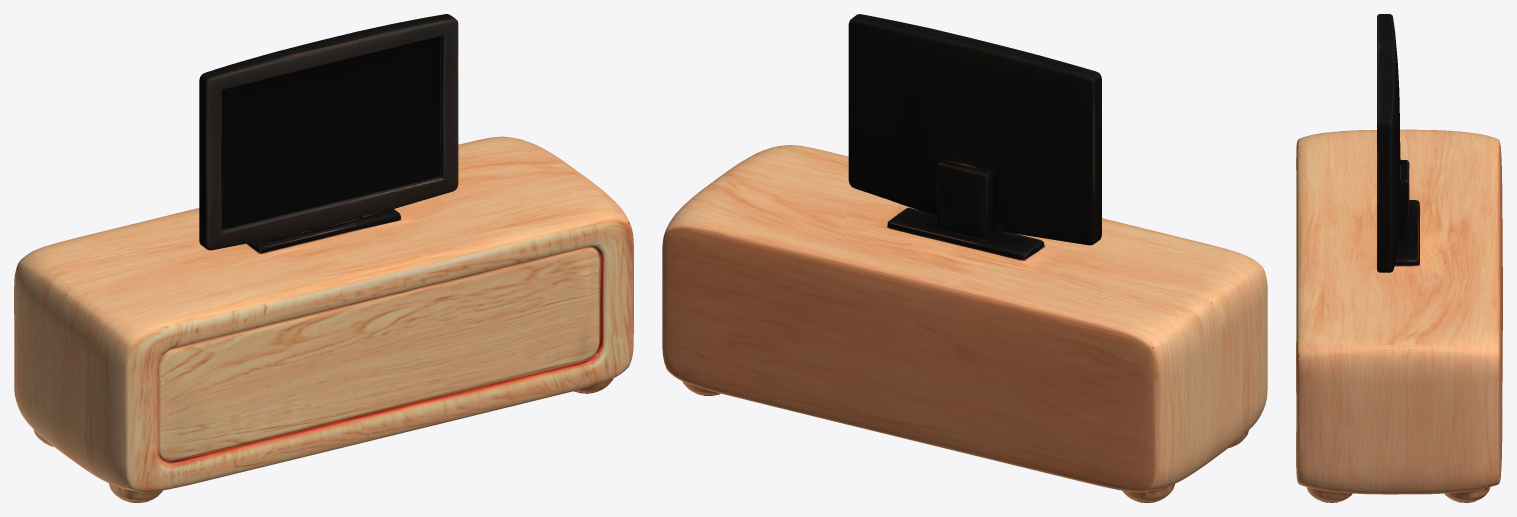
File: tvstand.glb
The picture shows the model from 3 angles, left to right: view 1: azimuth 30°, elevation 25°; view 2: azimuth 150°, elevation 25°; view 3: azimuth 270°, elevation 25°; orthographic projection. The views are drawn at different scales.
Visible parts, largest first — view 1: tvstand; view 2: tvstand; view 3: tvstand.
Boxes of the visible parts, x1,y1,x2,y2 form: tvstand: [14, 14, 633, 502]; tvstand: [662, 14, 1267, 502]; tvstand: [1296, 14, 1502, 502].
Size of the model in its own units: 1.45 by 1 by 0.5592.
Materials: 1 (1 with a texture image).
